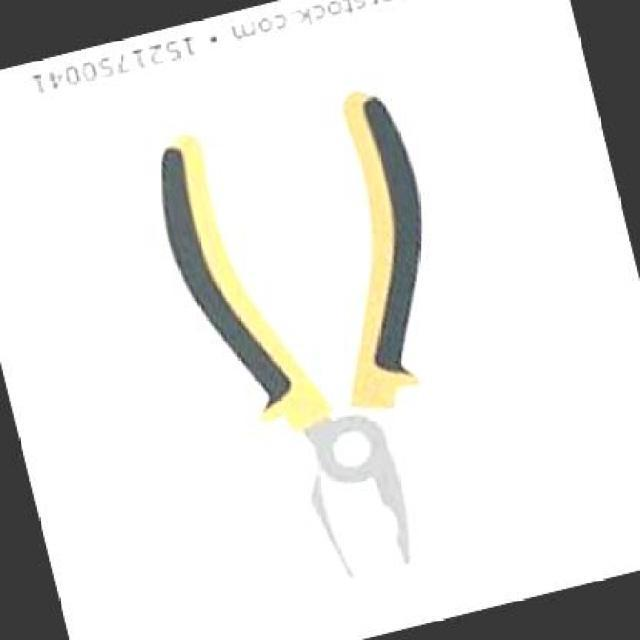pliers: (128, 66, 521, 614)
